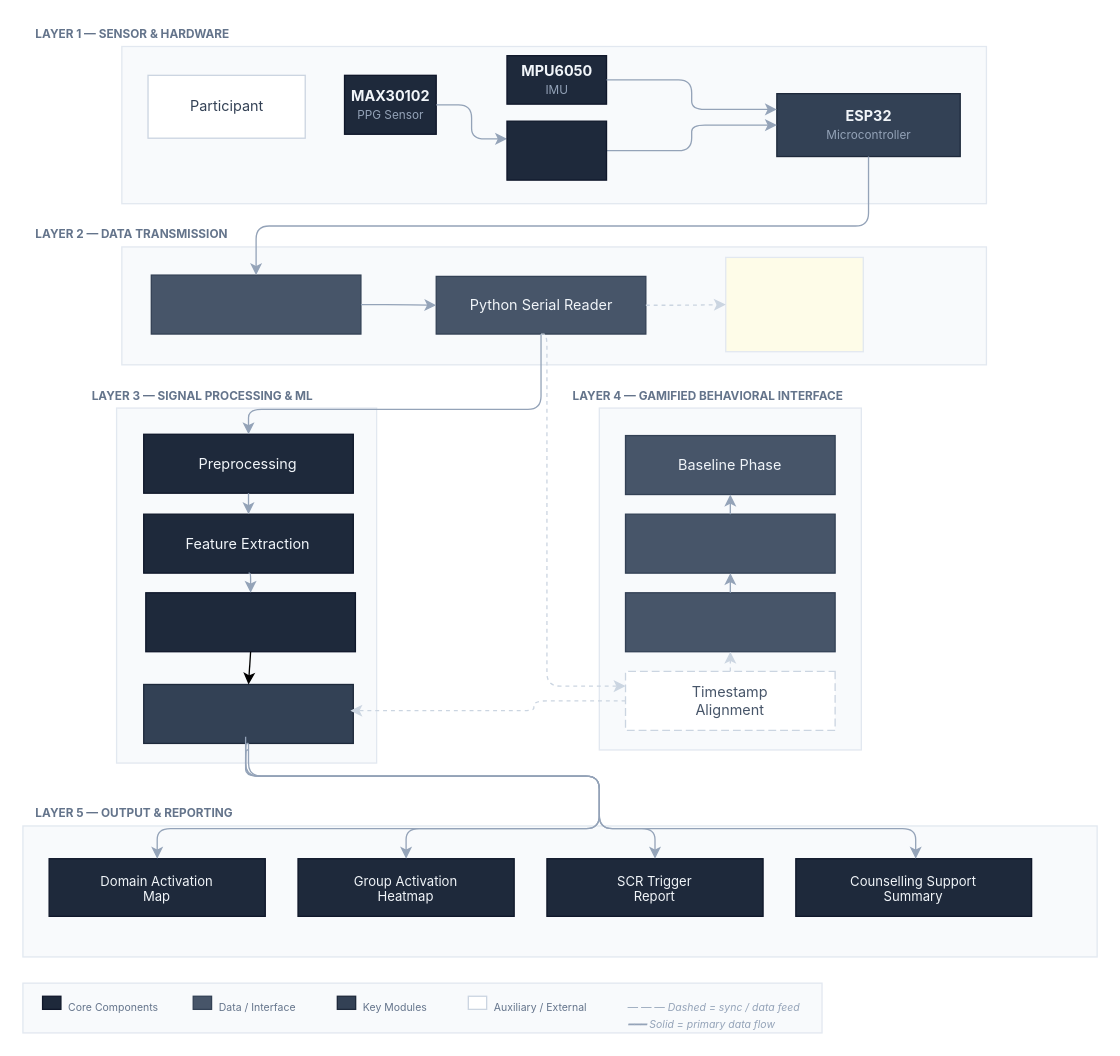
The diagram is 1120 pixels wide and 1056 high, and some of its shapes have lost their labels. Here are the shapes that lost their labels. From the top down, the centre of each, then its label:
(x=556, y=150): Grove-GSR EDA Sensor
(x=255, y=304): USB Serial Stream
(x=793, y=304): Operator Monitor Live HR · SCL
(x=729, y=543): Behavioral Domain Scenarios
(x=249, y=621): Baseline Normalization
(x=729, y=621): Event Logger
(x=247, y=713): ML Classification Random Forest
